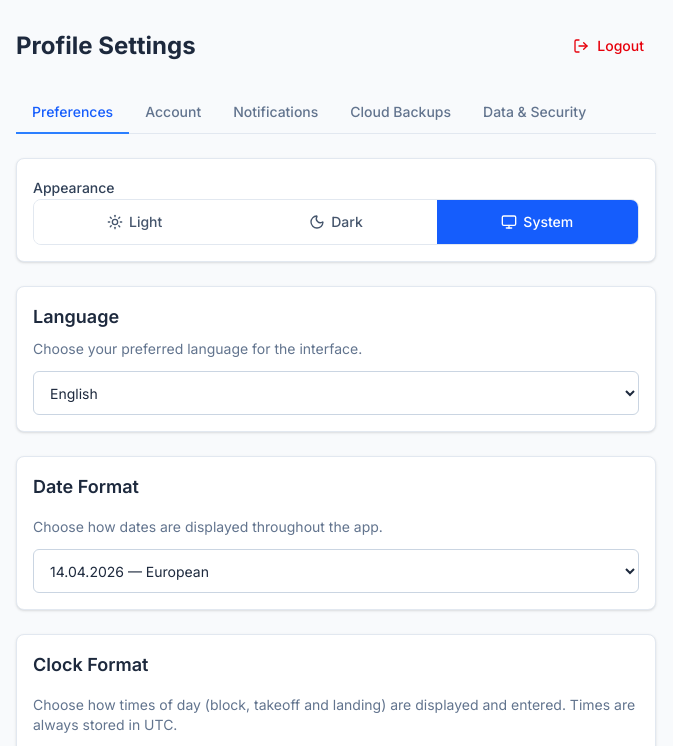
ProfilePage › shows error when passwords do not match
The width and height of the screenshot is (673, 746).
Click the button "Account". click: (173, 113)
box: x1=129 y1=92 x2=217 y2=134
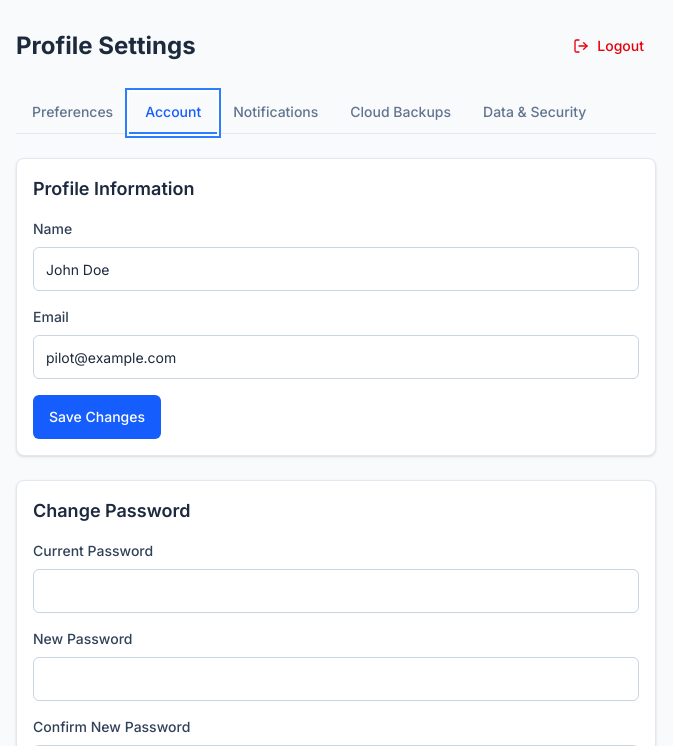
Type "OldPassword123!" into the password field labelled "Current Password". click: (336, 591)
box: x1=33 y1=569 x2=639 y2=613
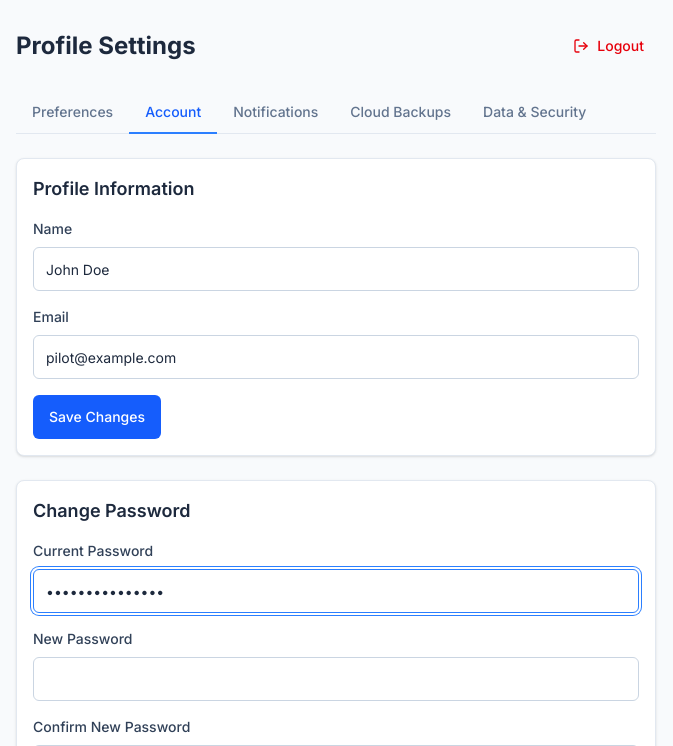
Type "NewPassword456!" into the password field labelled "New Password". click: (336, 679)
box: x1=33 y1=657 x2=639 y2=701
(page scrolled)
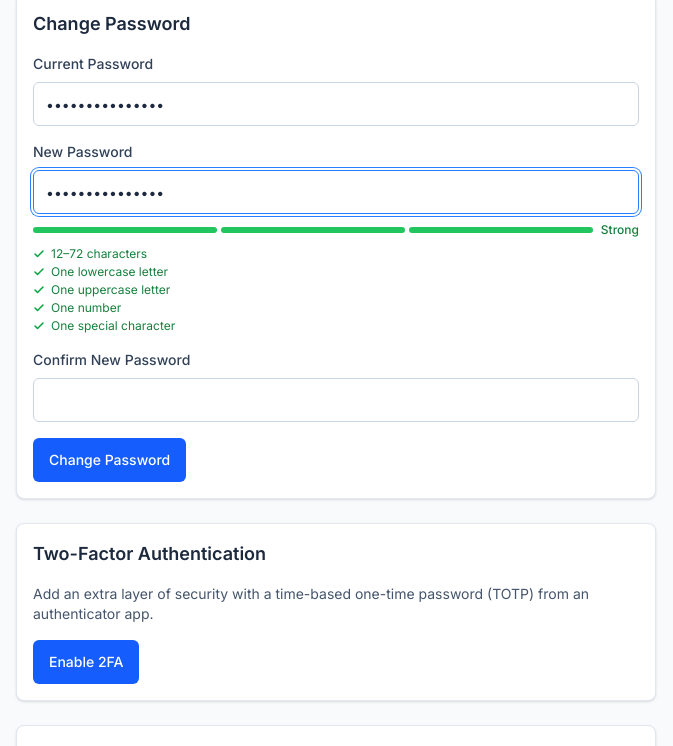
Type "DifferentPass1!" into the password field labelled "Confirm New Password". click: (336, 400)
box: x1=33 y1=378 x2=639 y2=422
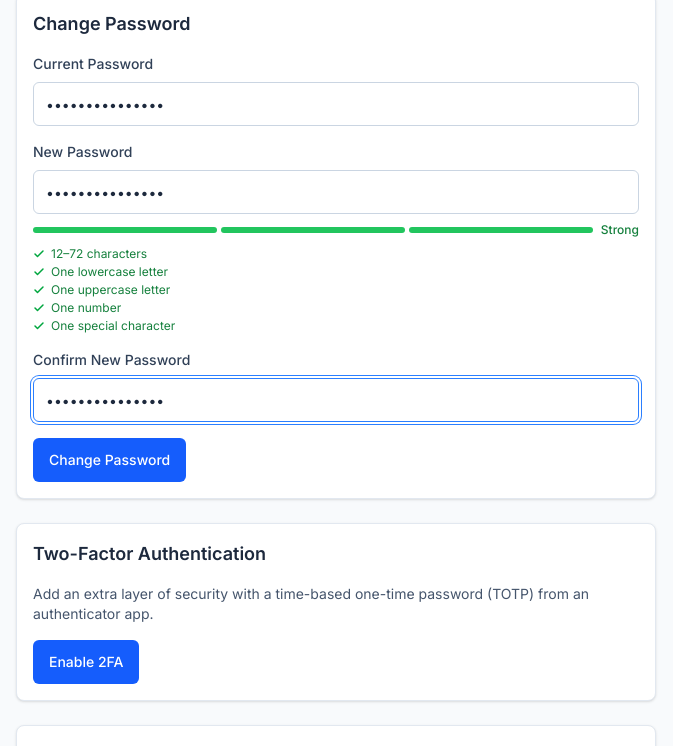
Click the button "Change Password". click: (110, 460)
box: x1=33 y1=438 x2=186 y2=482
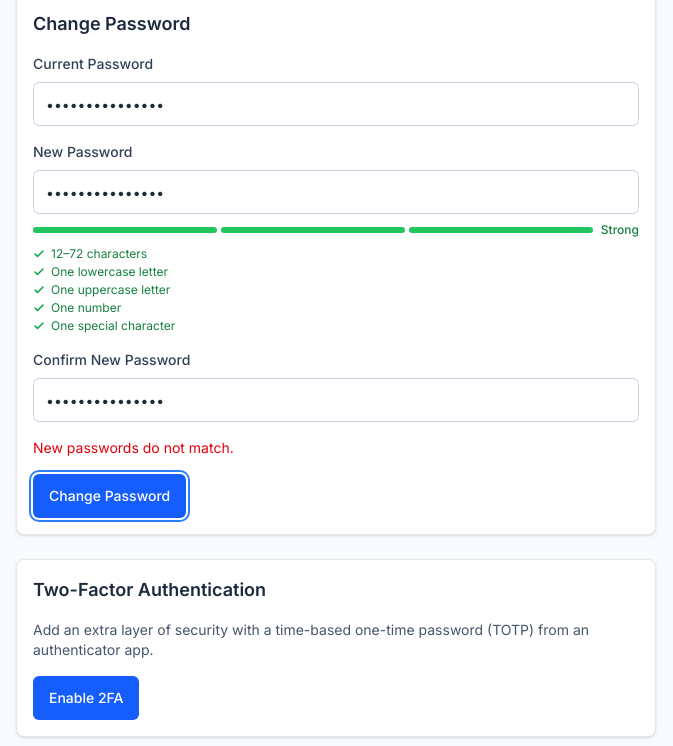
Expected: the text "New passwords do not match." is shown, x1=33 y1=439 x2=234 y2=456
